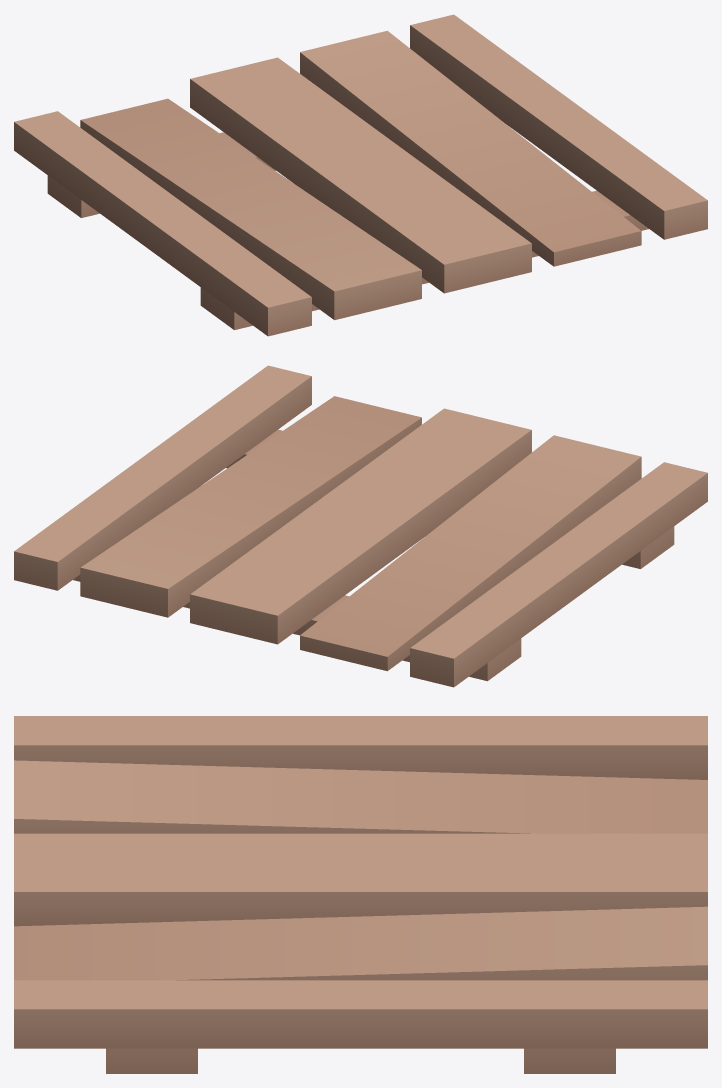
Rendered from floor-old.glb.
The picture shows the model from 3 angles, top to bottom: view 1: azimuth 30°, elevation 25°; view 2: azimuth 150°, elevation 25°; view 3: azimuth 270°, elevation 25°; orthographic projection. The views are drawn at different scales.
Visible parts, largest first — view 1: floor-old; view 2: floor-old; view 3: floor-old.
Boxes of the visible parts, box(x1,y1,x2,y2) form: floor-old: box(14, 14, 707, 336); floor-old: box(14, 365, 707, 687); floor-old: box(14, 716, 707, 1073).
Size of the model in its own units: 0.5 by 0.0512 by 0.5.
